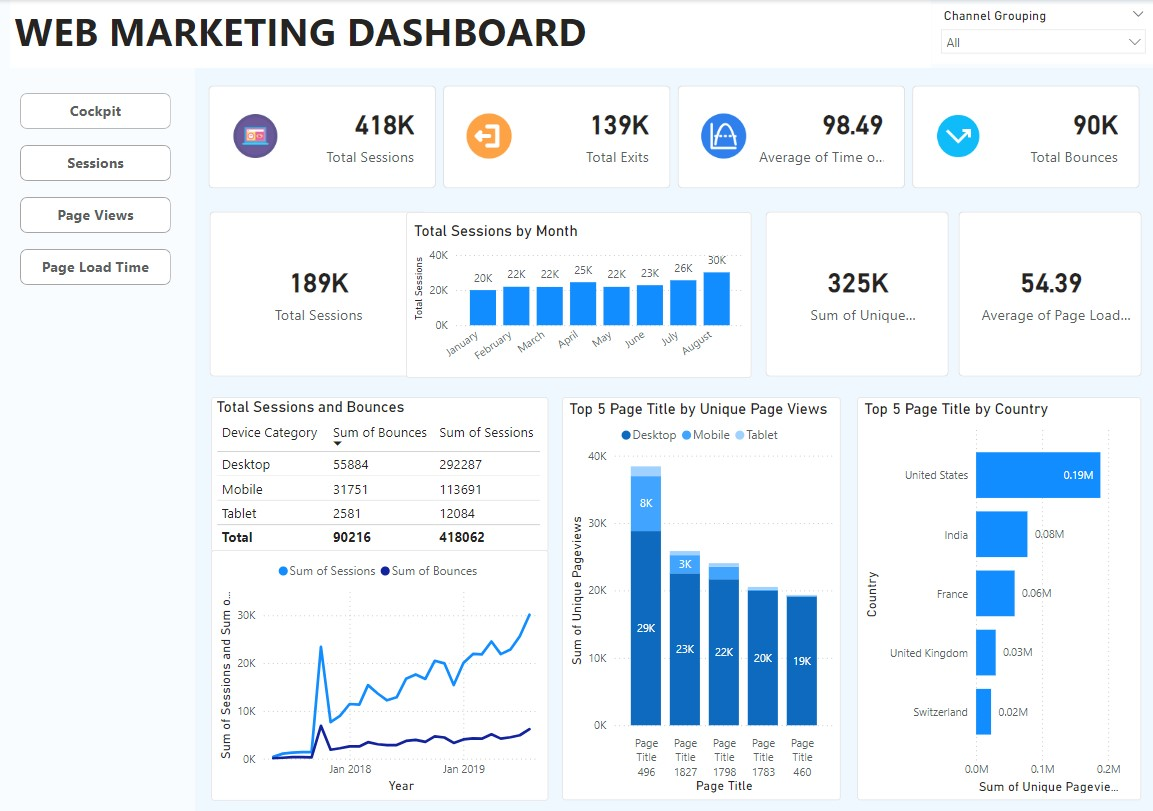

The dashboard page shown, as its layout file describes it:
{"tool":"powerbi","page":{"name":"Page 1","canvas":[1280,900],"ordinal":0},"visuals":[{"type":"shape","box":[216,75.5,1064,824.7],"z":0},{"type":"textbox","box":[11.6,0,1021,75.5],"z":1000},{"type":"actionButton","box":[22.2,103.5,167.4,39.9],"z":2000},{"type":"actionButton","box":[22.2,161.2,167.4,39.9],"z":3000},{"type":"actionButton","box":[22.2,218.8,167.4,39.9],"z":4000},{"type":"actionButton","box":[22.2,276.4,167.4,39.9],"z":5000},{"type":"cardVisual","fields":{"Data":["Sum(Power BI hw assignment - Web Marketing Dashboard Data.Sessions)","Sum(Power BI hw assignment - Web Marketing Dashboard Data.Exits)","Avg(Power BI hw assignment - Web Marketing Dashboard Data.Time on Page)","Sum(Power BI hw assignment - Web Marketing Dashboard Data.Bounces)"]},"box":[226.5,89.4,1043,124.3],"z":6000},{"type":"cardVisual","fields":{"Data":["Sum(Power BI hw assignment - Web Marketing Dashboard Data.Sessions)"]},"box":[227.7,230,250.9,194],"z":7000},{"type":"clusteredColumnChart","fields":{"Y":["Sum(Power BI hw assignment - Web Marketing Dashboard Data.Sessions)"],"Category":["Power BI hw assignment - Web Marketing Dashboard Data.Date.Variation.Date Hierarchy.Month"]},"box":[449.5,234.6,383.3,183.5],"z":8000},{"type":"cardVisual","fields":{"Data":["Sum(Power BI hw assignment - Web Marketing Dashboard Data.Unique Pageviews)"]},"box":[843.3,230,213.7,194],"z":9000},{"type":"cardVisual","fields":{"Data":["Avg(Power BI hw assignment - Web Marketing Dashboard Data.Page Load Time)"]},"box":[1057,230,213,194],"z":10000},{"type":"tableEx","title":"Total Sessions and Bounces","fields":{"Values":["Power BI hw assignment - Web Marketing Dashboard Data.Device Category","Sum(Power BI hw assignment - Web Marketing Dashboard Data.Bounces)","Sum(Power BI hw assignment - Web Marketing Dashboard Data.Sessions)"]},"box":[233.5,440.2,374,171.9],"z":11000},{"type":"lineChart","fields":{"Category":["Power BI hw assignment - Web Marketing Dashboard Data.Date.Variation.Date Hierarchy.Year","Power BI hw assignment - Web Marketing Dashboard Data.Date.Variation.Date Hierarchy.Month"],"Y":["Sum(Power BI hw assignment - Web Marketing Dashboard Data.Sessions)","Sum(Power BI hw assignment - Web Marketing Dashboard Data.Bounces)"]},"box":[233.5,609.8,374,277.6],"z":12000},{"type":"columnChart","title":"Top 5 Page Title by Unique Page Views","fields":{"Category":["Power BI hw assignment - Web Marketing Dashboard Data.Page Title"],"Y":["Sum(Power BI hw assignment - Web Marketing Dashboard Data.Unique Pageviews)"],"Series":["Power BI hw assignment - Web Marketing Dashboard Data.Device Category"]},"box":[622.6,440.2,309,447.2],"z":13000},{"type":"clusteredBarChart","title":"Top 5 Page Title by Country","fields":{"Y":["Sum(Power BI hw assignment - Web Marketing Dashboard Data.Unique Pageviews)"],"Category":["Power BI hw assignment - Web Marketing Dashboard Data.Country"]},"box":[950.1,440.2,314.8,447.2],"z":14000},{"type":"slicer","fields":{"Values":["Power BI hw assignment - Web Marketing Dashboard Data.Channel Grouping"]},"box":[1032.6,4.6,247.4,66.2],"z":15000}]}

Visuals, with their boxes in screenshot pixels (x1, y1, x2, y2), scaled from the page's 1280x900 canvas onto the 1153x811 screenshot:
shape: 195, 68, 1152, 810
textbox: 10, 0, 930, 68
actionButton: 20, 93, 171, 129
actionButton: 20, 145, 171, 181
actionButton: 20, 197, 171, 233
actionButton: 20, 249, 171, 285
cardVisual - Sum(Power BI hw assignment - Web Marketing Dashboard Data.Sessions) x Sum(Power BI hw assignment - Web Marketing Dashboard Data.Exits): 204, 81, 1144, 193
cardVisual - Sum(Power BI hw assignment - Web Marketing Dashboard Data.Sessions): 205, 207, 431, 382
clusteredColumnChart - Sum(Power BI hw assignment - Web Marketing Dashboard Data.Sessions) x Power BI hw assignment - Web Marketing Dashboard Data.Date.Variation.Date Hierarchy.Month: 405, 211, 750, 377
cardVisual - Sum(Power BI hw assignment - Web Marketing Dashboard Data.Unique Pageviews): 760, 207, 952, 382
cardVisual - Avg(Power BI hw assignment - Web Marketing Dashboard Data.Page Load Time): 952, 207, 1144, 382
"Total Sessions and Bounces" tableEx: 210, 397, 547, 552
lineChart - Power BI hw assignment - Web Marketing Dashboard Data.Date.Variation.Date Hierarchy.Year x Power BI hw assignment - Web Marketing Dashboard Data.Date.Variation.Date Hierarchy.Month: 210, 549, 547, 800
"Top 5 Page Title by Unique Page Views" columnChart: 561, 397, 839, 800
"Top 5 Page Title by Country" clusteredBarChart: 856, 397, 1139, 800
slicer - Power BI hw assignment - Web Marketing Dashboard Data.Channel Grouping: 930, 4, 1152, 64
